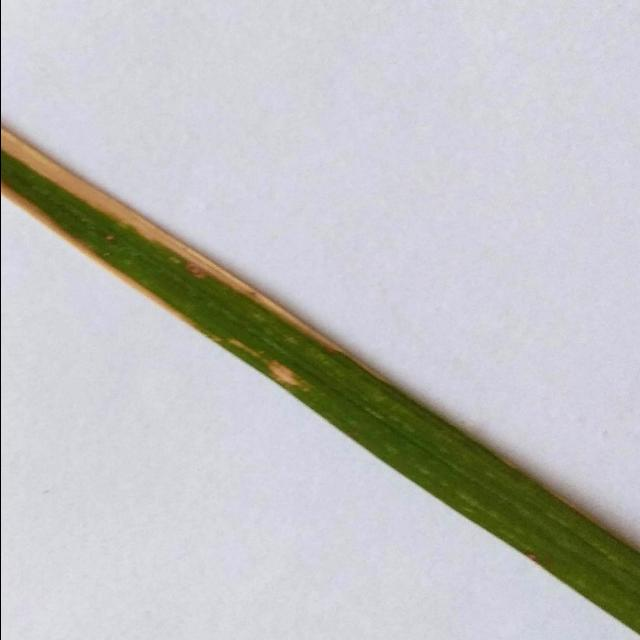Leaf blast: (0, 97, 640, 640)
